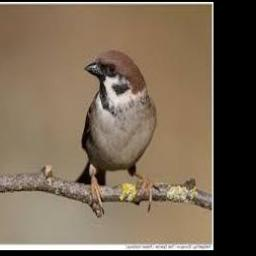Sparrow: (75, 49, 157, 213)
